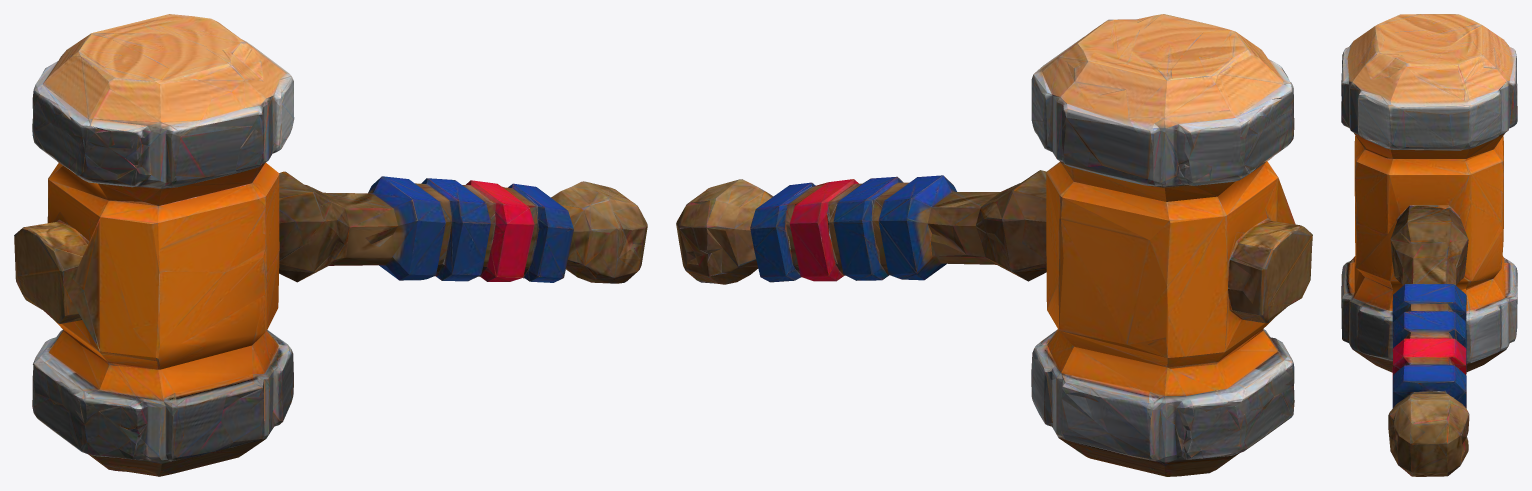
The model's file is cosmic-hammer.glb.
3 renders of one model, left to right at view 1: azimuth 30°, elevation 25°; view 2: azimuth 150°, elevation 25°; view 3: azimuth 270°, elevation 25°, orthographic. The views are drawn at different scales.
Parts seen in each view (by area): view 1: mesh_node; view 2: mesh_node; view 3: mesh_node.
Part boxes in pixels (bbox=[...]): mesh_node: bbox=[14, 14, 647, 476]; mesh_node: bbox=[676, 14, 1312, 476]; mesh_node: bbox=[1341, 14, 1517, 476].
Size of the model in its own units: 1.9 by 1.2 by 0.6139.
1 material, 1 textured.
